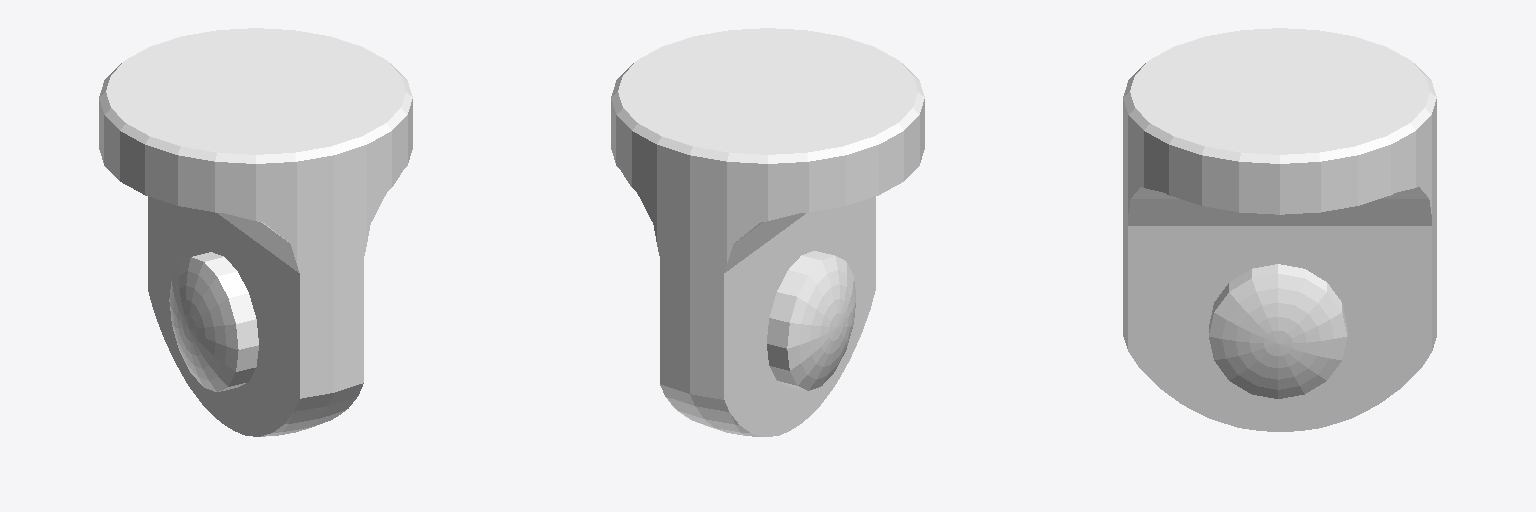
Rendered from CannonMount.obj.
3 views of the same model, side by side, from view 1: azimuth 30°, elevation 25°; view 2: azimuth 150°, elevation 25°; view 3: azimuth 270°, elevation 25° (orthographic).
Parts seen in each view (by area): view 1: ChamferCyl001; view 2: ChamferCyl001; view 3: ChamferCyl001.
Part boxes in pixels (x1,y1,x2,y2): ChamferCyl001: (99, 28, 412, 436); ChamferCyl001: (611, 28, 924, 436); ChamferCyl001: (1123, 28, 1436, 431).
Bounding box in the file's own units: 1.7 × 1.97 × 1.7.